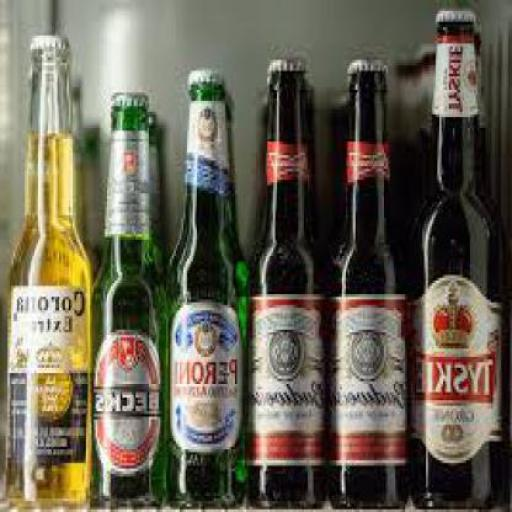glass: (408, 21, 504, 509), (10, 44, 93, 509), (164, 81, 250, 510), (247, 71, 327, 509), (330, 74, 410, 509), (93, 101, 170, 509)
metal: (270, 52, 308, 71), (350, 55, 390, 68), (438, 6, 478, 19), (34, 33, 71, 46), (193, 65, 225, 79), (112, 93, 150, 100)
